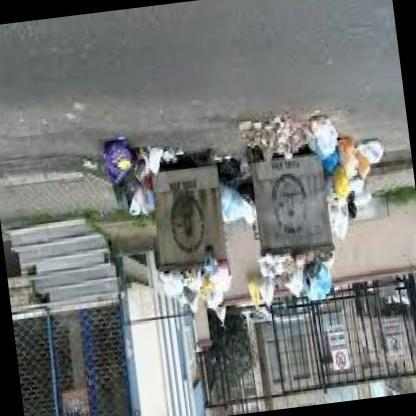Garbage: (148, 263, 251, 314), (258, 246, 334, 306), (324, 168, 358, 233), (109, 170, 150, 219), (300, 113, 336, 164), (337, 130, 360, 196), (220, 178, 255, 221), (140, 136, 170, 178), (310, 103, 338, 147), (298, 270, 336, 302), (360, 134, 392, 172), (237, 110, 281, 136), (104, 140, 130, 182), (242, 273, 272, 303), (196, 276, 218, 301), (196, 247, 216, 269), (356, 153, 374, 177)
